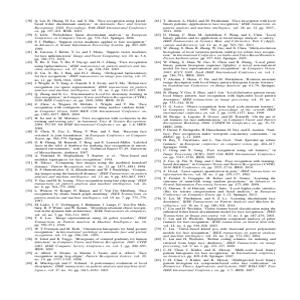text: (21, 17, 151, 274), (153, 17, 277, 274)
